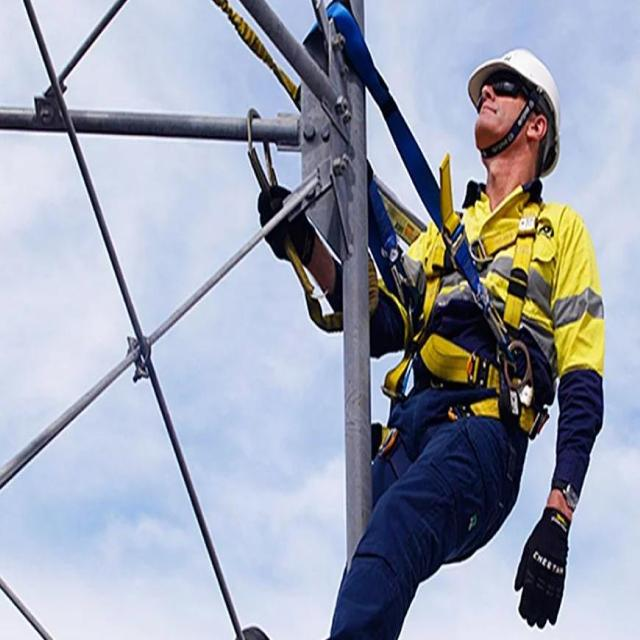Gloves: (513, 479, 579, 628), (258, 186, 314, 264)
Hardhat: (467, 48, 560, 178)
Person: (256, 46, 604, 640)
